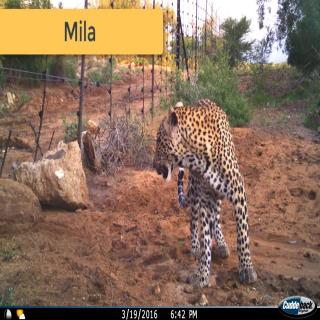Leopard: (152, 96, 258, 289)
